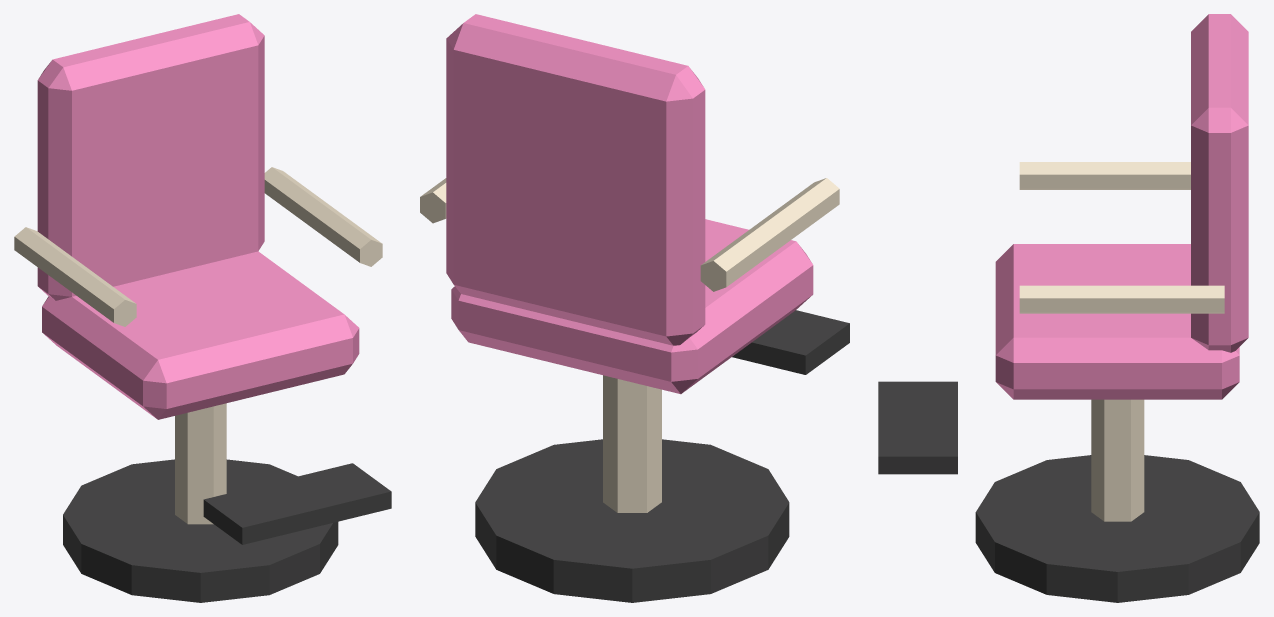
3 views of the same model, side by side, from view 1: azimuth 30°, elevation 25°; view 2: azimuth 150°, elevation 25°; view 3: azimuth 270°, elevation 25° (orthographic). The views are drawn at different scales.
Parts seen in each view (by area): view 1: Back, Seat, Base, Footrest, Hydraulic post, Arm, Arm.001; view 2: Back, Base, Seat, Hydraulic post, Arm, Footrest, Arm.001; view 3: Base, Seat, Back, Footrest, Hydraulic post, Arm.001, Arm.
Part boxes in pixels (box(x1,y1,x2,y2)): Back: box(37, 14, 264, 300); Seat: box(42, 251, 359, 419); Base: box(63, 459, 338, 602); Footrest: box(203, 463, 391, 544); Hydraulic post: box(175, 403, 226, 524); Arm: box(14, 227, 136, 326); Arm.001: box(264, 167, 382, 266); Back: box(446, 14, 705, 345); Base: box(475, 439, 789, 602); Seat: box(451, 219, 813, 394); Hydraulic post: box(603, 375, 661, 512); Arm: box(700, 178, 839, 291); Footrest: box(732, 310, 849, 374); Arm.001: box(420, 178, 446, 223); Base: box(975, 455, 1259, 602); Seat: box(995, 244, 1239, 399); Back: box(1191, 14, 1248, 352); Footrest: box(878, 381, 957, 474); Hydraulic post: box(1091, 399, 1144, 521); Arm.001: box(1019, 285, 1224, 313); Arm: box(1019, 162, 1190, 189).
Bounding box in the file's own units: 72.06 × 120 × 86.
